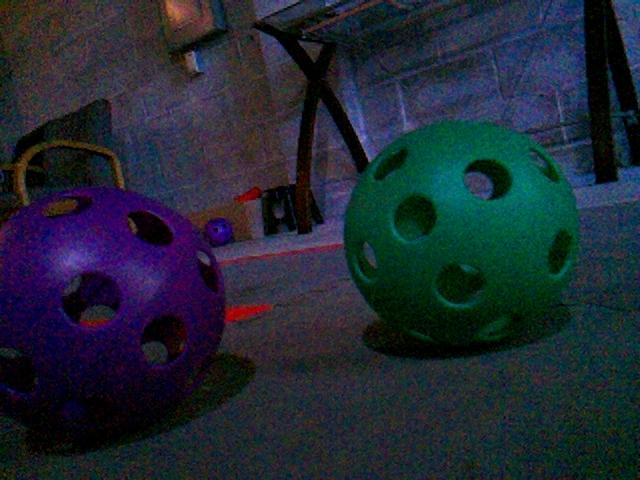Green: (342, 121, 581, 347)
Purple: (0, 188, 227, 444), (204, 217, 233, 247)
